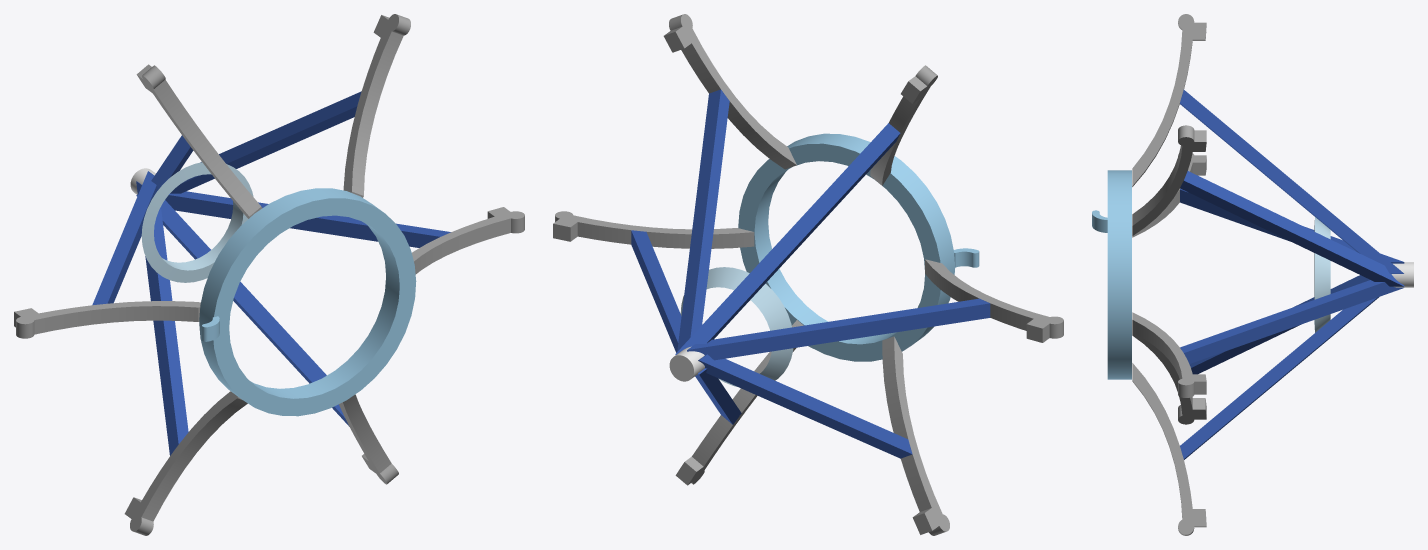
The model's file is Part Studio 9.dae.
3 views of the same model, side by side, from view 1: azimuth 30°, elevation 25°; view 2: azimuth 150°, elevation 25°; view 3: azimuth 270°, elevation 25° (orthographic). The views are drawn at different scales.
Visible parts, largest first — view 1: 683ba7e0494fee3206e82baa (×14); view 2: 683ba7e0494fee3206e82baa (×15); view 3: 683ba7e0494fee3206e82baa (×15).
Boxes of the visible parts, x1,y1,x2,y2 form: 683ba7e0494fee3206e82baa (×14): (14,14,524,535); 683ba7e0494fee3206e82baa (×15): (553,14,1063,535); 683ba7e0494fee3206e82baa (×15): (1092,14,1413,535).
Size of the model in its own units: 0.1085 by 0.067 by 0.097.
